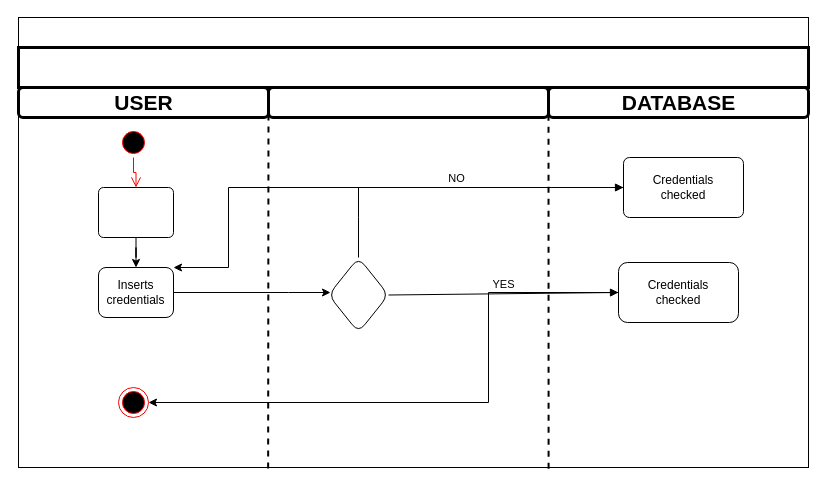
The diagram is 827 pixels wide and 488 high, and some of its shapes have lost their labels. Each missing label, with the centre of its shape:
Client enters the web: the point at 136,212
CLIENT LOGIN ACTIVITY: the point at 413,67
SERVER: the point at 408,102
